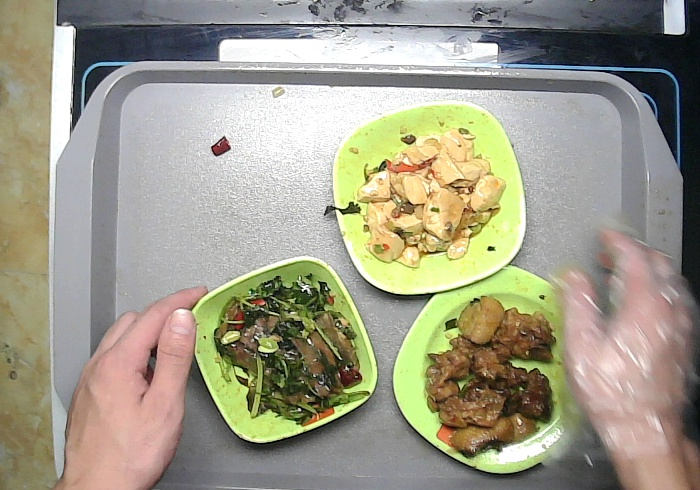SHKJ-Lv_Se_Cai_Die: (329, 98, 530, 298)
SHKJ-Lv_Se_Si_Fang_Cai_Die: (392, 262, 612, 474)
SHKJ-Lv_Se_Xiao_Fang_Die: (189, 255, 381, 444)
